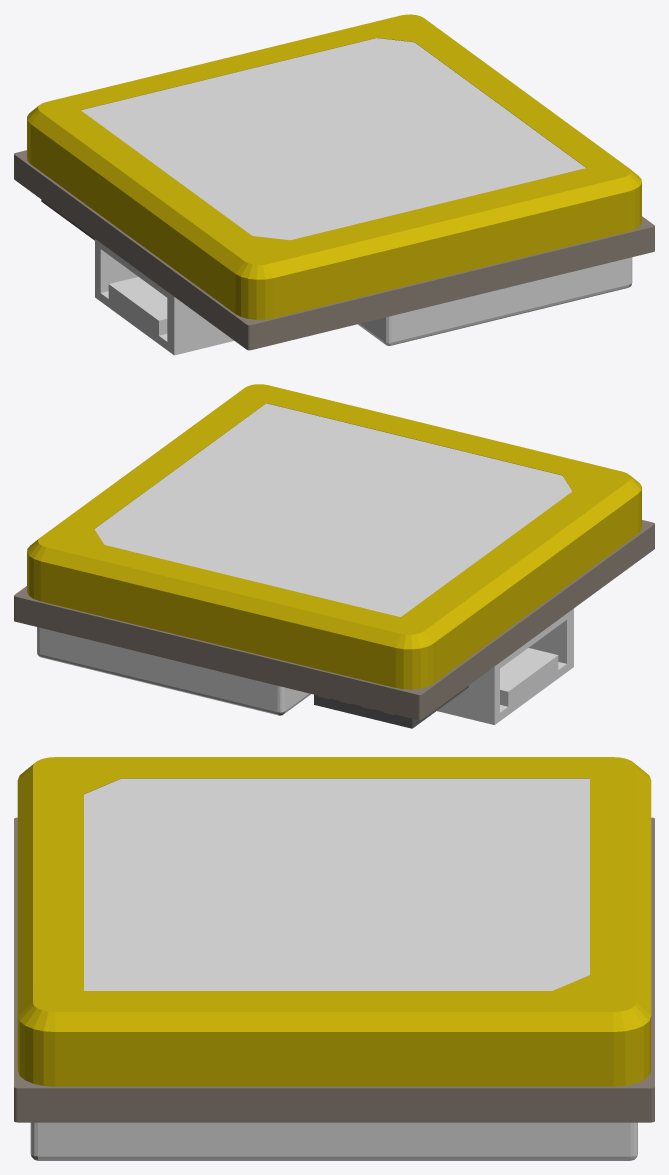
Rendered from model_diatone_mamba_m10_pro-XYhYAffh.glb.
The picture shows the model from 3 angles, top to bottom: view 1: azimuth 30°, elevation 25°; view 2: azimuth 150°, elevation 25°; view 3: azimuth 270°, elevation 25°; orthographic projection. The views are drawn at different scales.
Size of the model in its own units: 17 by 5.5 by 17.
